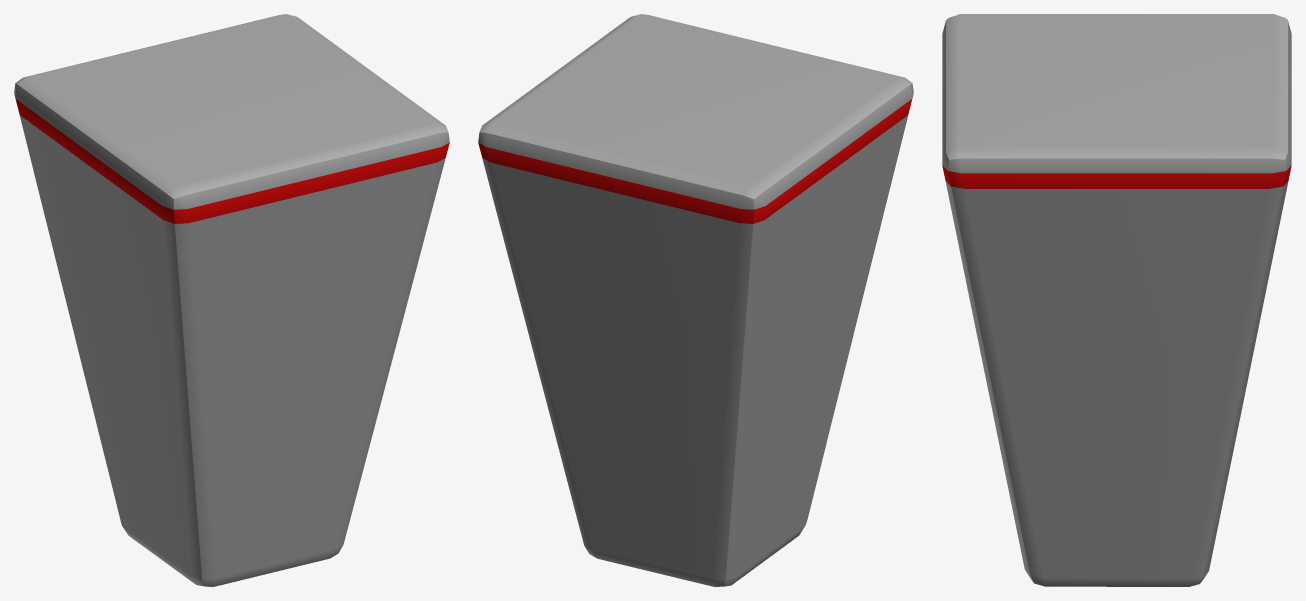
Rendered from Ppillier 3.1.fbx.
3 renders of one model, left to right at view 1: azimuth 30°, elevation 25°; view 2: azimuth 150°, elevation 25°; view 3: azimuth 270°, elevation 25°, orthographic. The views are drawn at different scales.
Parts seen in each view (by area): view 1: Ppillier_3_1; view 2: Ppillier_3_1; view 3: Ppillier_3_1.
Part boxes in pixels (x1=…): Ppillier_3_1: x1=14, y1=14, x2=449, y2=586; Ppillier_3_1: x1=478, y1=14, x2=913, y2=586; Ppillier_3_1: x1=942, y1=14, x2=1291, y2=586.
Bounding box in the file's own units: 196 × 294 × 196.
